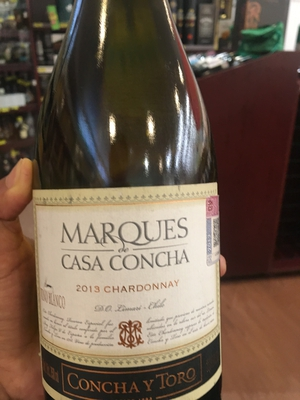marques de casa concha chardonnay: (38, 23, 226, 400)
